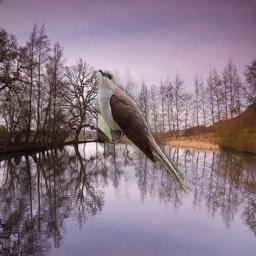Cuckoo: (98, 69, 192, 199)
